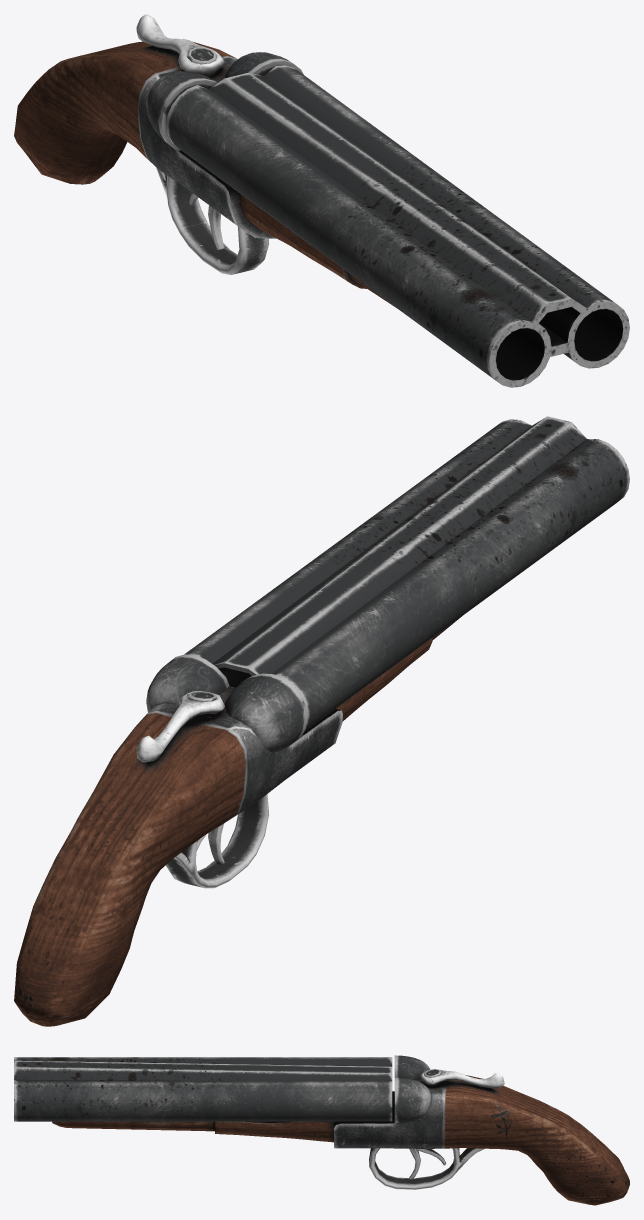
Rendered from shotgun.glb.
The picture shows the model from 3 angles, top to bottom: view 1: azimuth 30°, elevation 25°; view 2: azimuth 150°, elevation 25°; view 3: azimuth 270°, elevation 25°; orthographic projection. The views are drawn at different scales.
Parts seen in each view (by area): view 1: Object_2; view 2: Object_2; view 3: Object_2.
Boxes of the visible parts, x1=… form: Object_2: x1=14, y1=14, x2=629, y2=387; Object_2: x1=14, y1=416, x2=629, y2=1026; Object_2: x1=14, y1=1055, x2=629, y2=1205.
Bounding box in the file's own units: 0.0779 × 0.1203 × 0.4855.
1 material, 1 textured.
